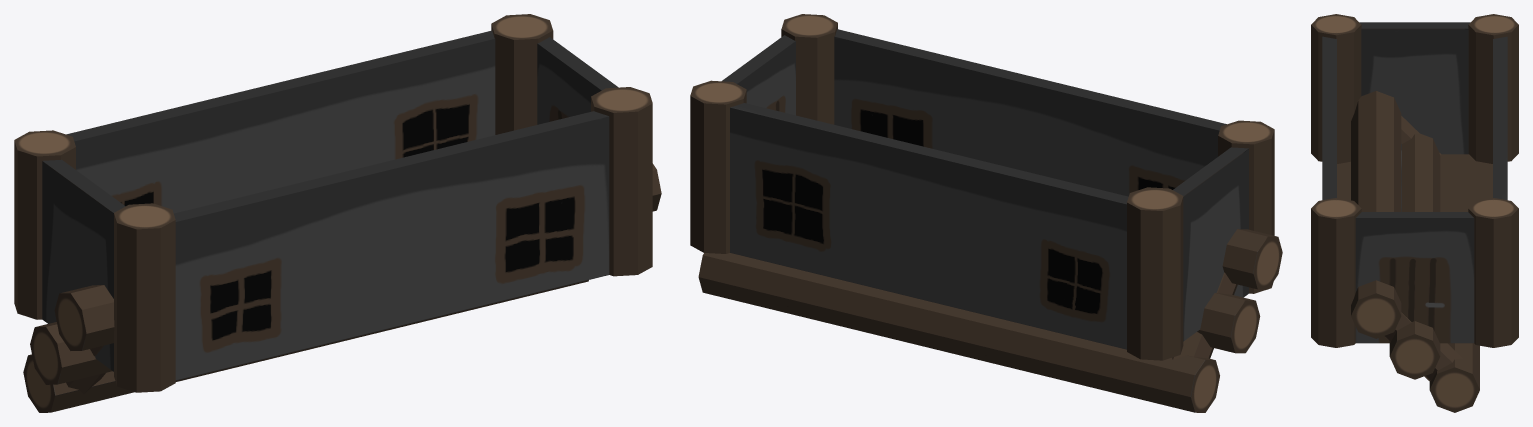
Rendered from domecek2-shattered.fbx.
3 views of the same model, side by side, from view 1: azimuth 30°, elevation 25°; view 2: azimuth 150°, elevation 25°; view 3: azimuth 270°, elevation 25° (orthographic). The views are drawn at different scales.
Visible parts, largest first — view 1: domecek2-shattered, domecek2-shattered-roof, domecek2-shattered-log; view 2: domecek2-shattered, domecek2-shattered-roof, domecek2-shattered-log; view 3: domecek2-shattered, domecek2-shattered-roof, domecek2-shattered-log.
Boxes of the visible parts, box(x1,y1,x2,y2) form: domecek2-shattered: box(14, 14, 652, 392); domecek2-shattered-roof: box(23, 163, 661, 412); domecek2-shattered-log: box(30, 322, 112, 384); domecek2-shattered: box(690, 14, 1274, 360); domecek2-shattered-roof: box(698, 229, 1282, 412); domecek2-shattered-log: box(1197, 293, 1260, 353); domecek2-shattered: box(1311, 14, 1518, 347); domecek2-shattered-roof: box(1351, 91, 1479, 412); domecek2-shattered-log: box(1389, 133, 1440, 379).
Size of the model in its own units: 1133 by 460 by 449.
Materials: 1 (1 with a texture image).
